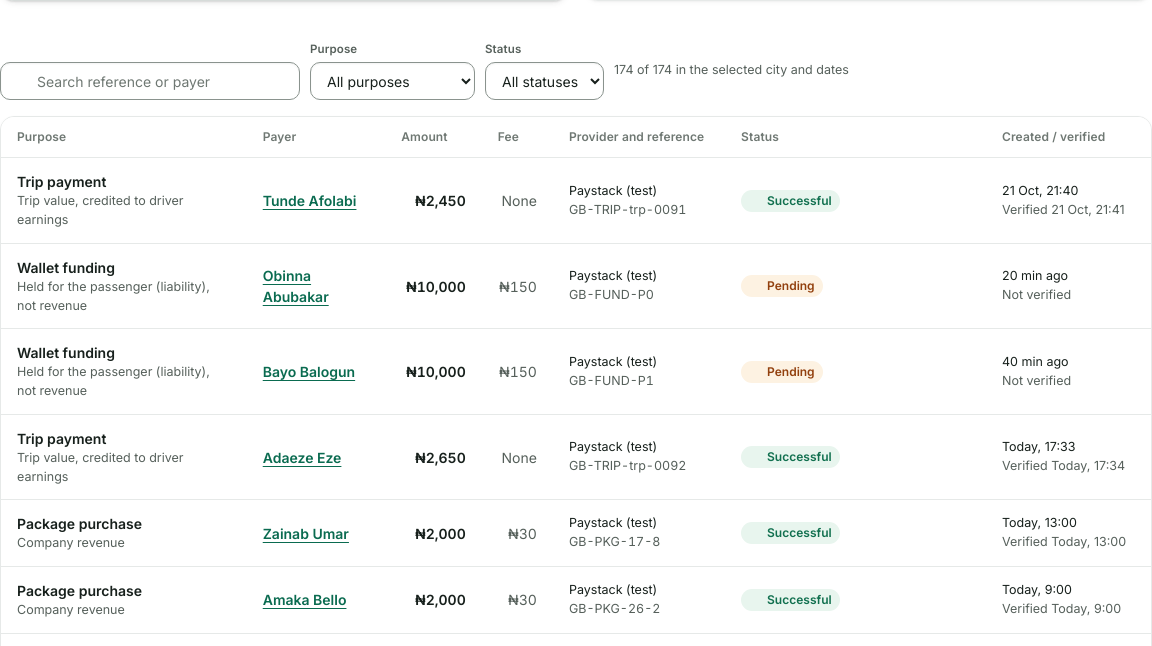
Scenario: finance screens › finance verifies a pending collection once (simulated) and the drawer shows the journal
(page scrolled)
Click the text "Not verified" at (576, 287), box x1=1 y1=244 x2=1151 y2=329
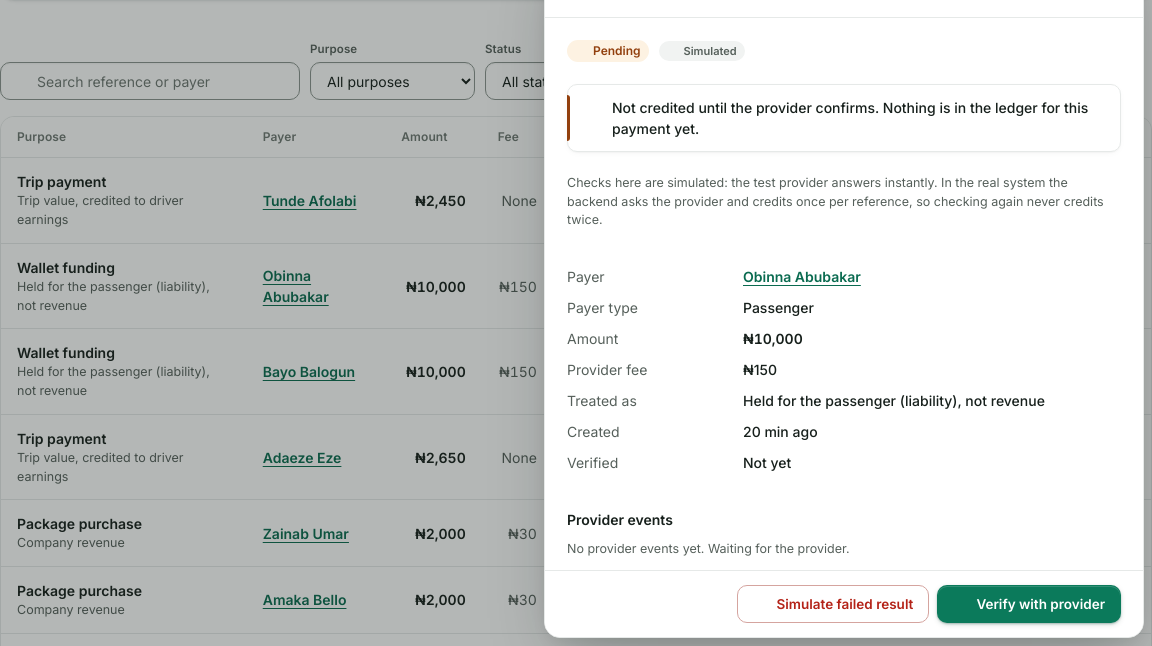
Click the button "Verify with provider" at (1029, 604), box x1=937 y1=585 x2=1121 y2=623
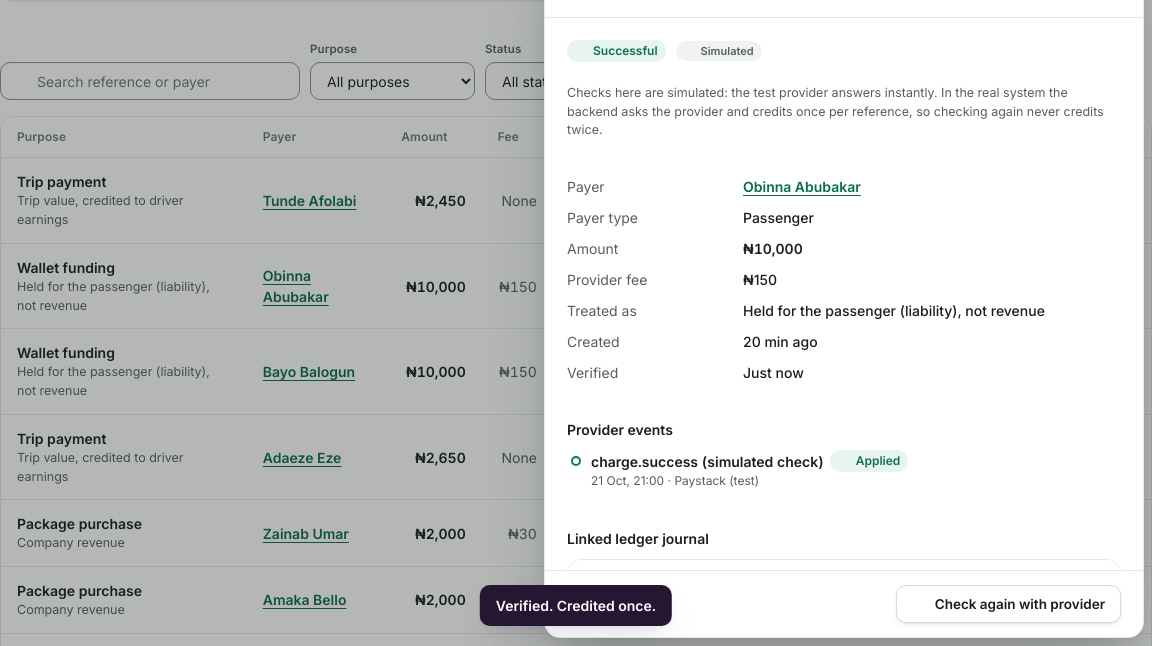
Now the text "Verified. Credited once." is shown, box x1=480 y1=585 x2=672 y2=626
Click the button "Check again with provider" at (1008, 604), box x1=896 y1=585 x2=1121 y2=623
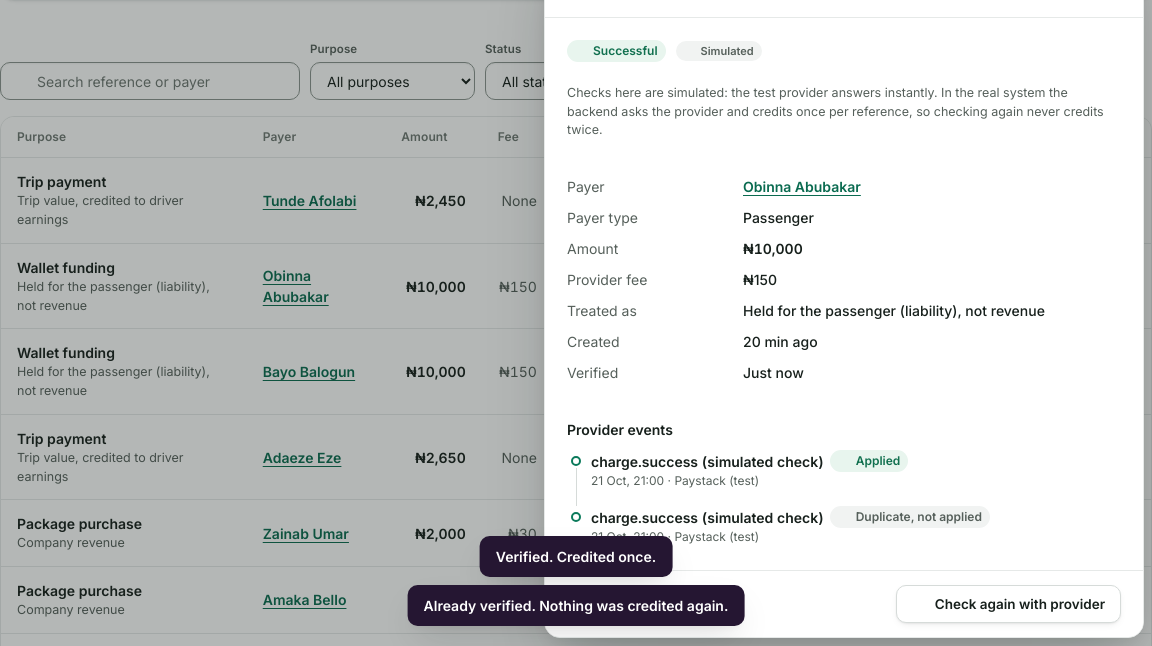
Now the text "Already verified. Nothing was credited again." is shown, box x1=408 y1=585 x2=744 y2=626
Now the text "Duplicate, not applied" is shown, box x1=830 y1=506 x2=990 y2=528
